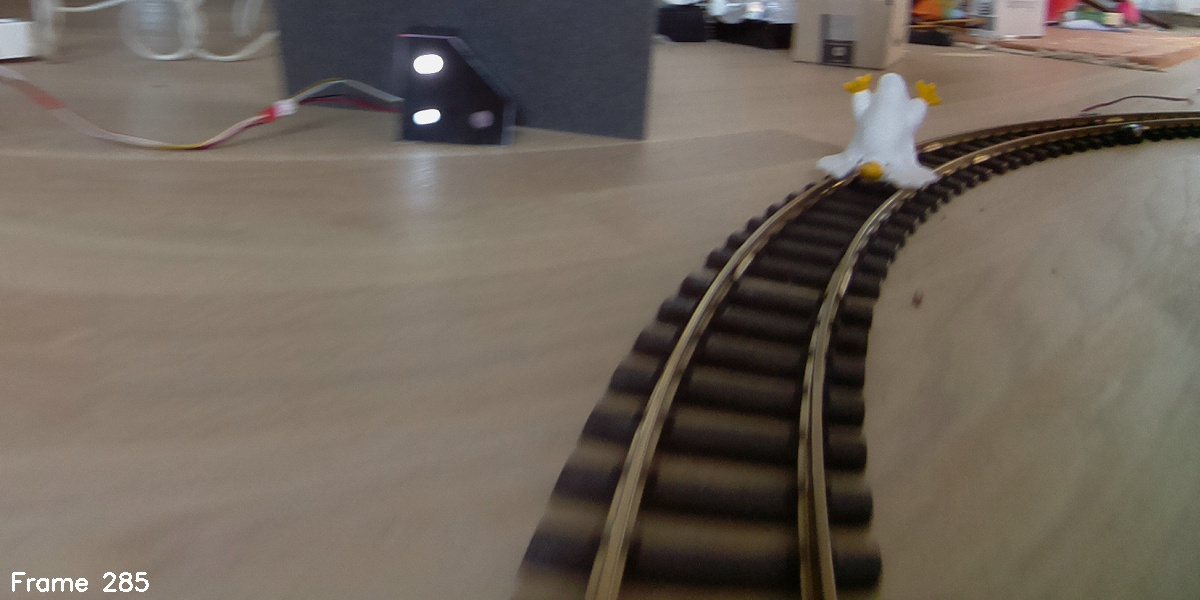Fahrt: (399, 35, 511, 144)
